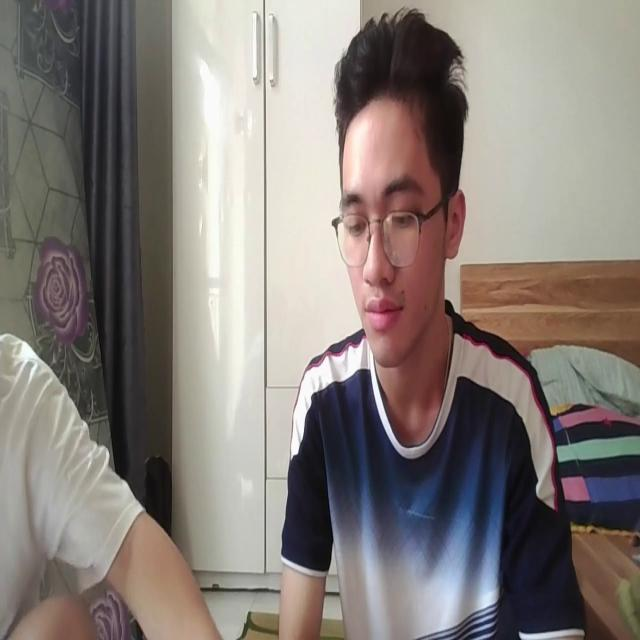extra_person: (0, 326, 233, 640)
student: (274, 6, 584, 640)
